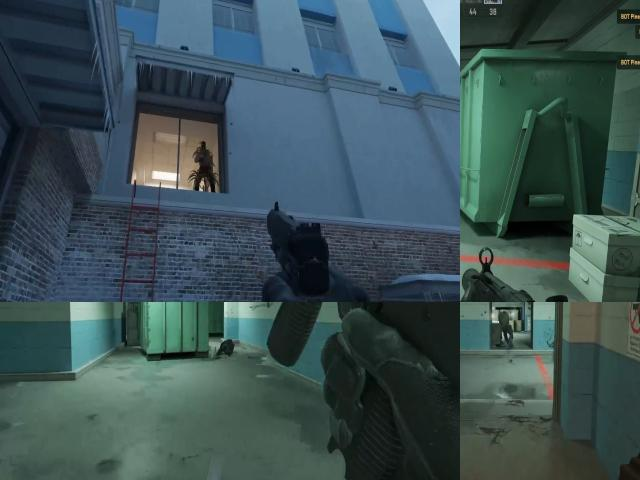Dead: (496, 309, 518, 345), (214, 334, 238, 362)
T: (196, 143, 212, 176)
T-Head: (200, 140, 208, 156)
